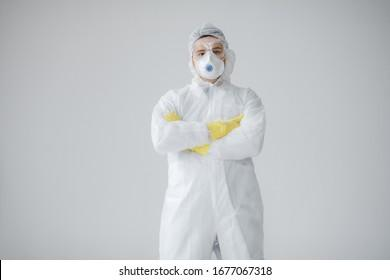gloves: (208, 114, 244, 137), (166, 113, 182, 121)
